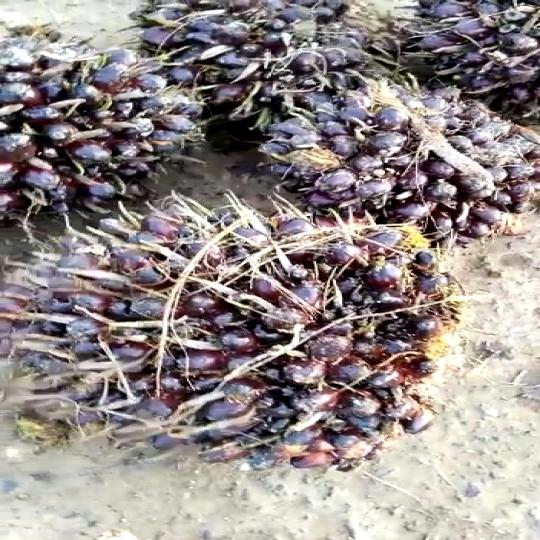mentah: (19, 188, 498, 485), (268, 78, 540, 232), (0, 21, 199, 221), (127, 0, 377, 150)
